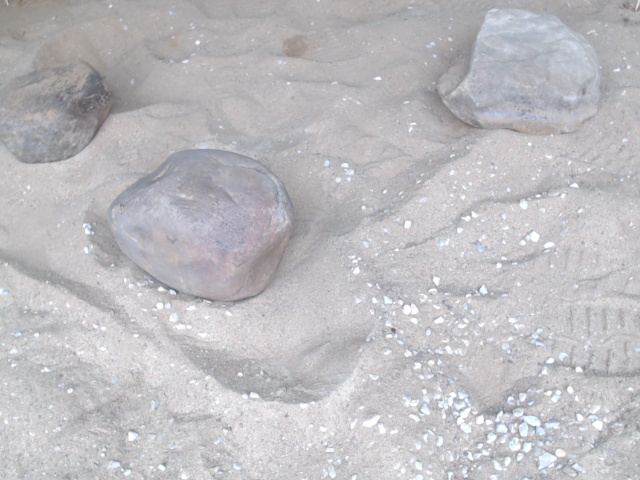rock: (105, 149, 293, 302), (434, 7, 601, 137), (1, 59, 113, 164)
